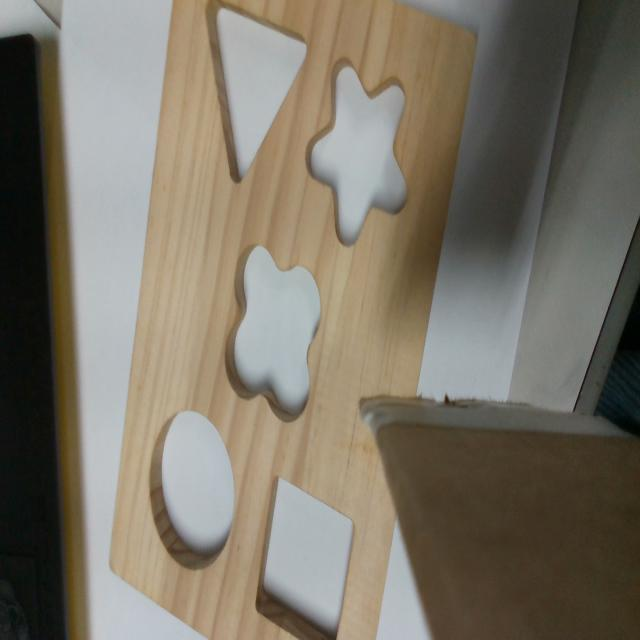circle: (151, 411, 235, 570)
flower: (225, 244, 321, 422)
square: (253, 476, 355, 639)
star: (303, 56, 408, 245)
triangle: (205, 2, 311, 185)
